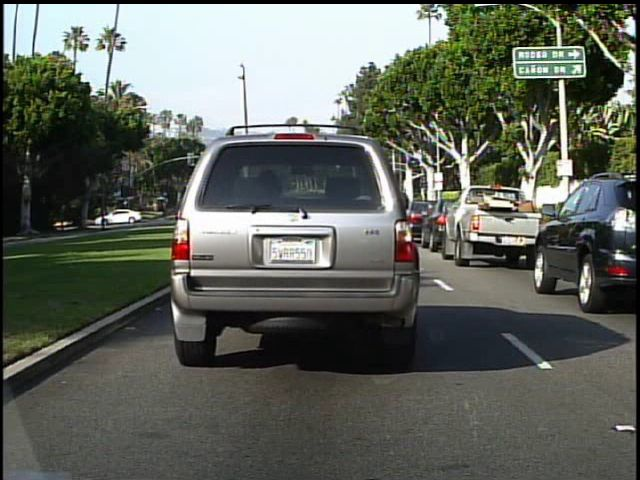person: (77, 207, 90, 228)
